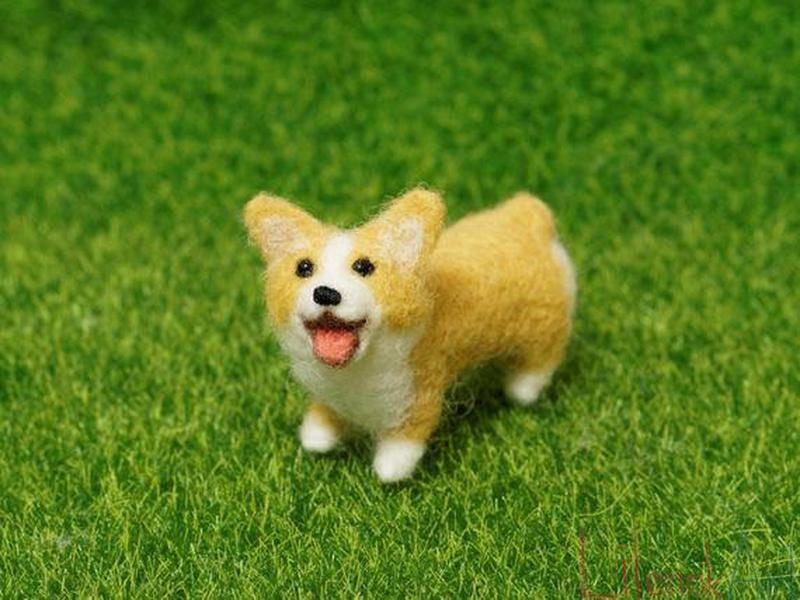corgi: (235, 190, 448, 373)
